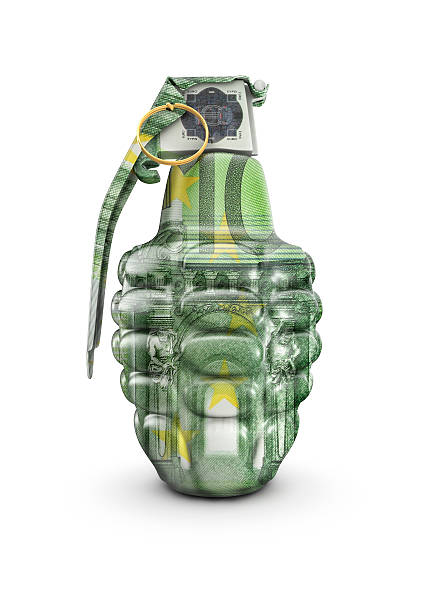e1: (85, 75, 320, 498)
